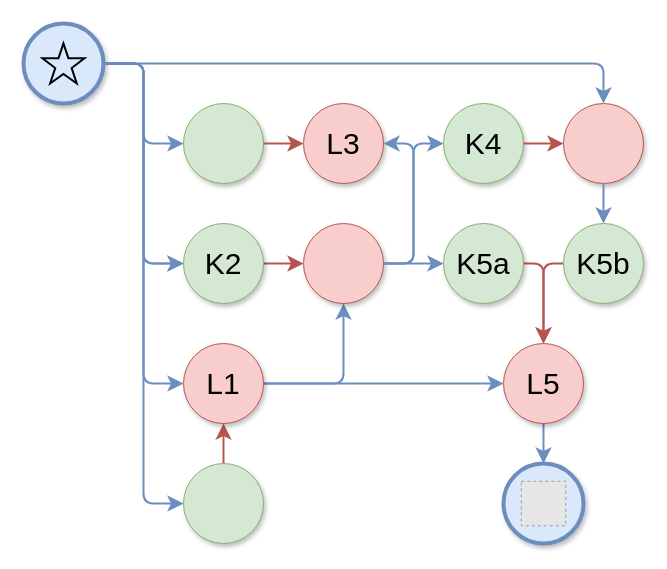
This 667x569 diagram has some shape labels left out. Grey dashed boxes stand in for pictures. Each missing label, with the centre of its shape:
K1: (x=224, y=504)
K3: (x=224, y=144)
L2: (x=344, y=264)
L4: (x=604, y=144)
